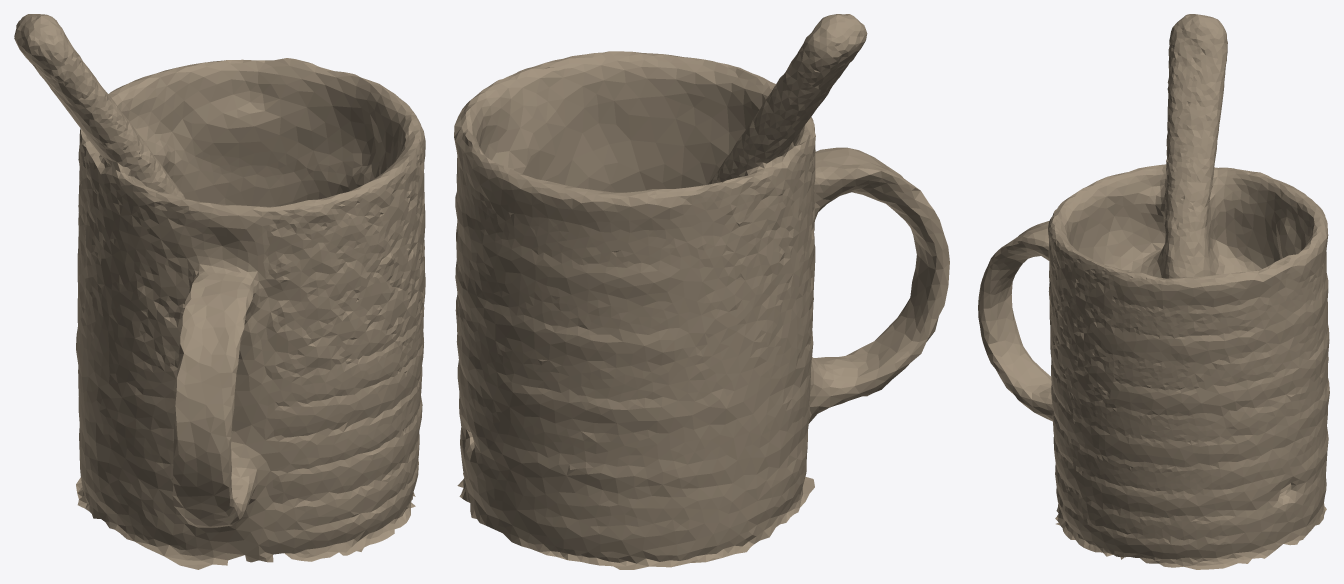
File: MUG.fbx
3 views of the same model, side by side, from view 1: azimuth 30°, elevation 25°; view 2: azimuth 150°, elevation 25°; view 3: azimuth 270°, elevation 25° (orthographic). The views are drawn at different scales.
Parts seen in each view (by area): view 1: MUG; view 2: MUG; view 3: MUG.
Boxes of the visible parts, bbox=[...] form: MUG: bbox=[14, 14, 425, 569]; MUG: bbox=[454, 14, 949, 569]; MUG: bbox=[978, 14, 1329, 569].
Bounding box in the file's own units: 15.89 × 21.17 × 16.08.
